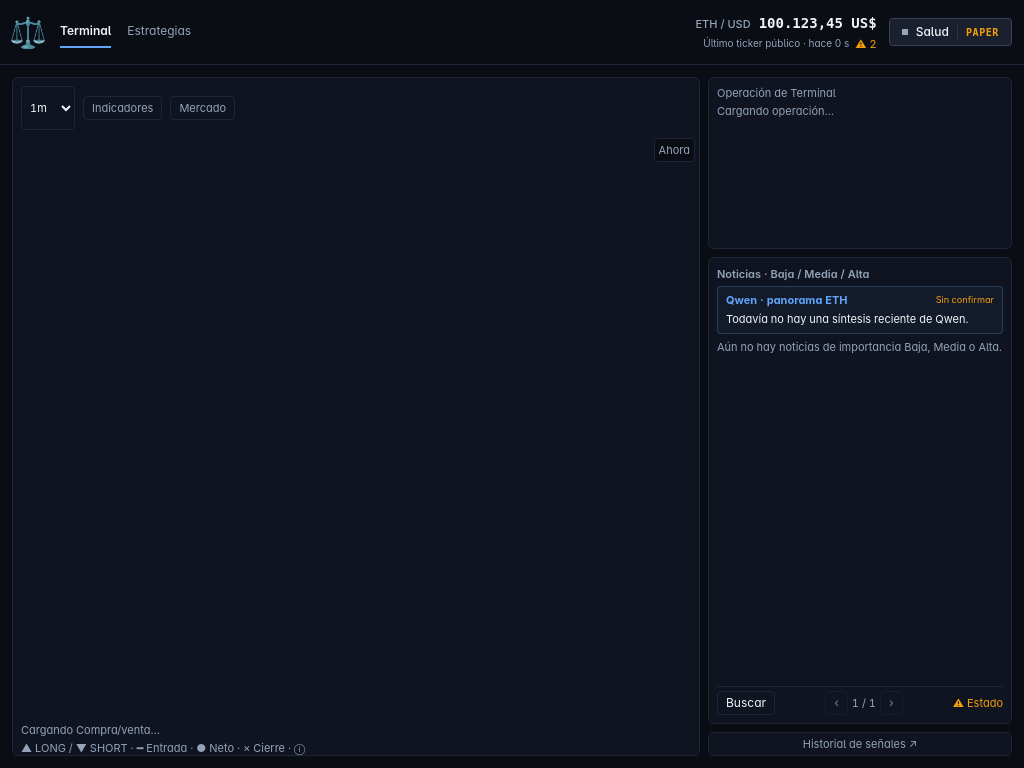
it: FuturesTerminal on the live gateway with paper execution › waits for the first verdict while the engine starts with no analyses
Click the button "Historial de señales ↗" at [860, 744], box [708,732,1012,756]
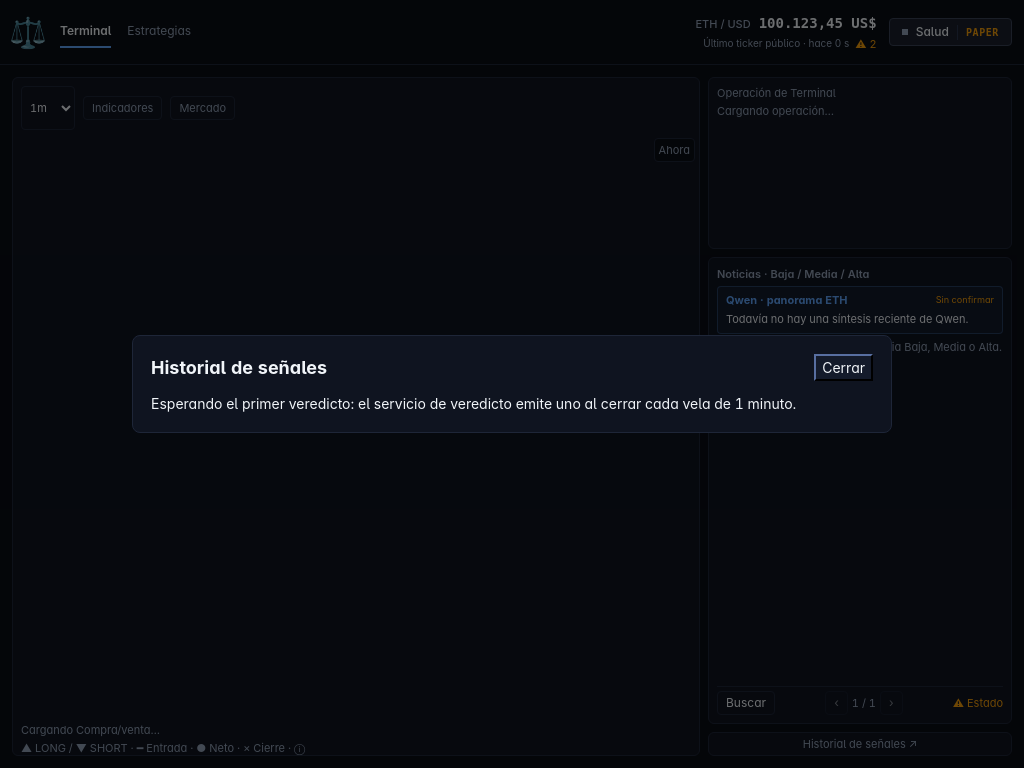
Expected: the text "Esperando el primer veredicto" is shown, [151,395,796,412]
